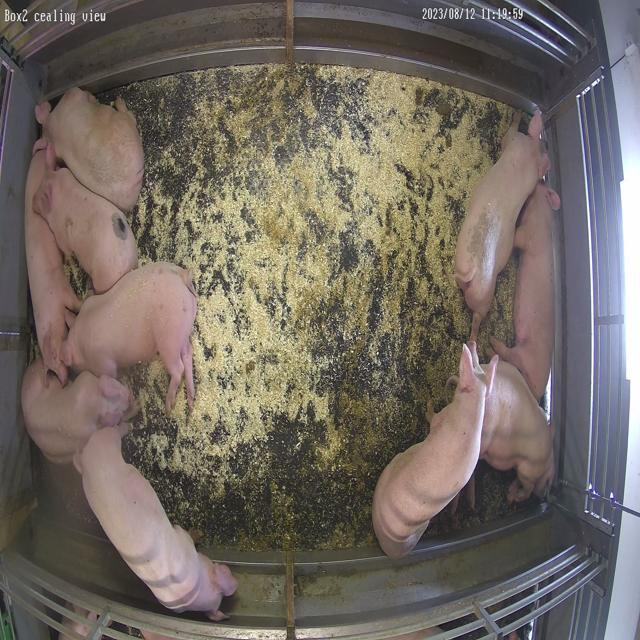Dirt: (314, 346, 460, 548), (194, 425, 398, 552), (308, 264, 436, 355), (428, 463, 522, 538), (226, 64, 299, 130), (437, 102, 454, 114)
